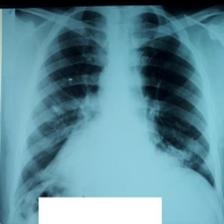tuberculosis: (13, 7, 219, 222)
